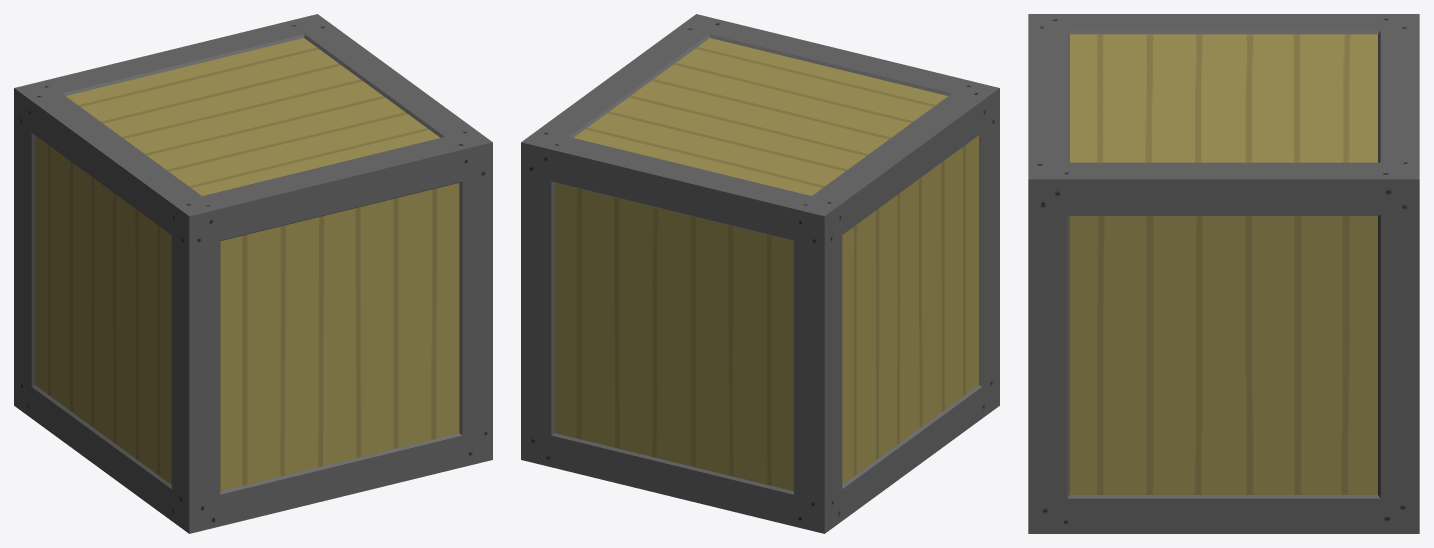
Rendered from Wooden Crate Large.glb.
3 views of the same model, side by side, from view 1: azimuth 30°, elevation 25°; view 2: azimuth 150°, elevation 25°; view 3: azimuth 270°, elevation 25° (orthographic). The views are drawn at different scales.
Visible parts, largest first — view 1: Cube; view 2: Cube; view 3: Cube.
Part boxes in pixels (left/top/right/bottom): Cube: left=14, top=14, right=492, bottom=533; Cube: left=521, top=14, right=999, bottom=533; Cube: left=1028, top=14, right=1419, bottom=533.
Size of the model in its own units: 1.6 by 1.6 by 1.6.
2 materials, 2 textured.
